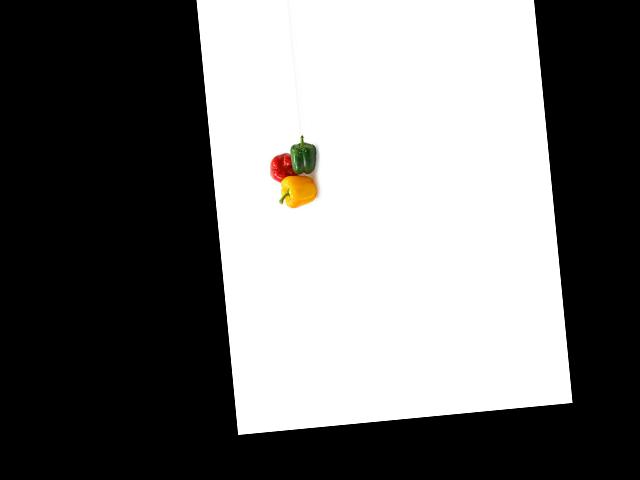bell_pepper: (285, 137, 319, 182)
